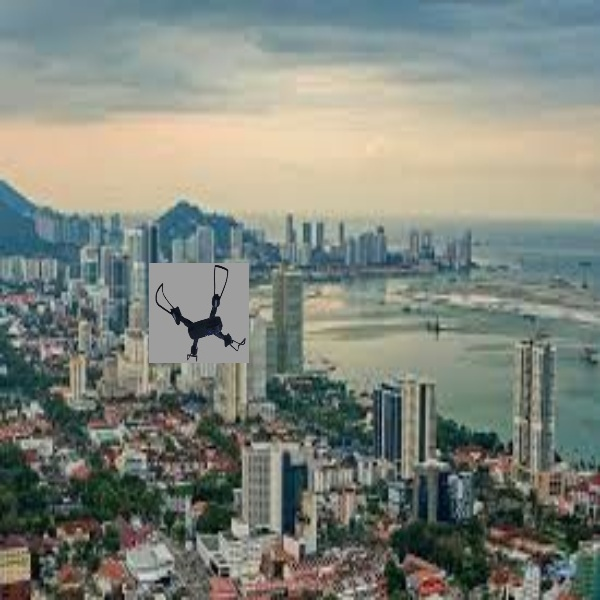drone: (151, 262, 247, 365)
